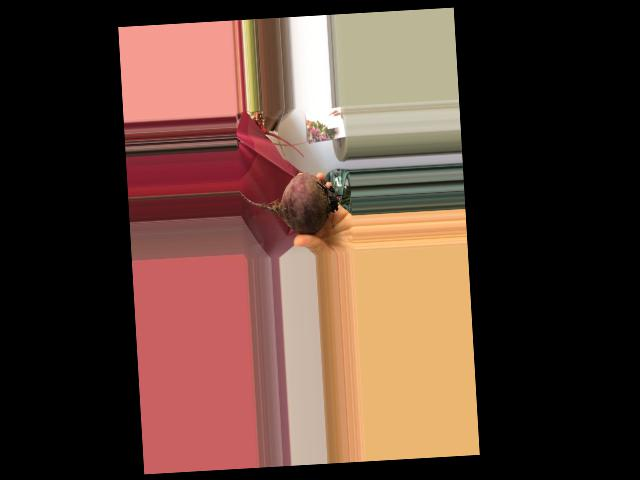beet: (239, 170, 353, 238)
